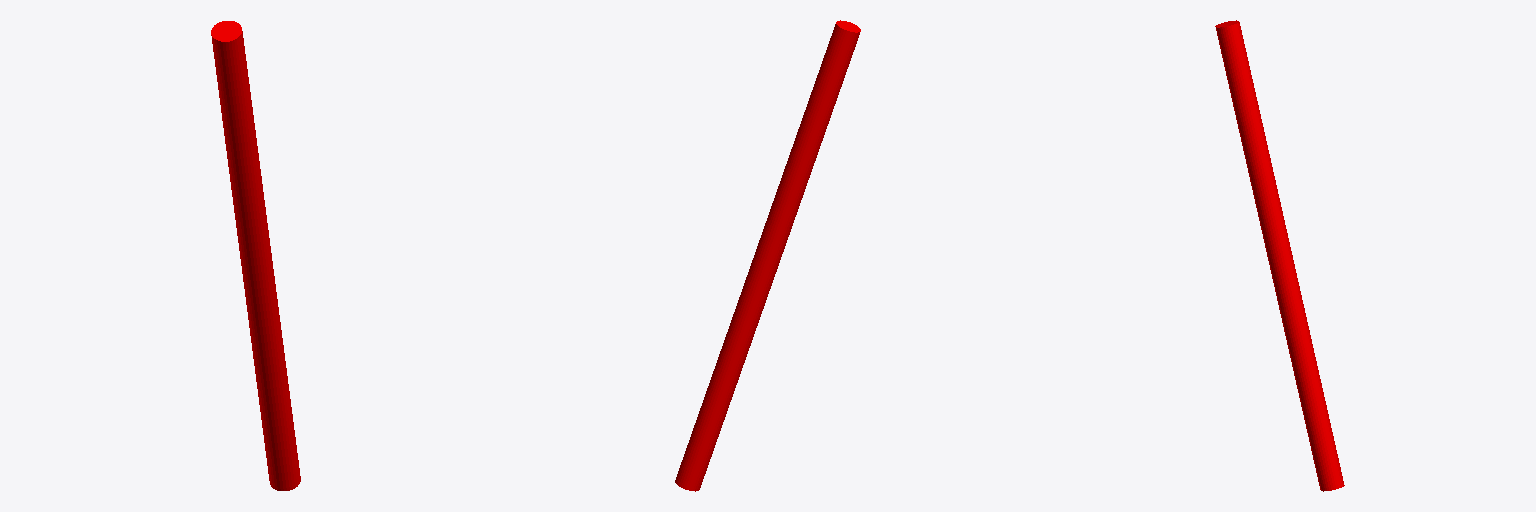
URDF robot description (tree_45.urdf):
<?xml version='1.0' encoding='utf-8'?>
<robot name="tree_45.urdf">
  <link name="branch_0">
    <inertial>
      <origin xyz="0.0 0.0 0.0" rpy="0.0 -0.0 0.0" />
      <mass value="1.0" />
      <inertia ixx="1.0" ixy="0.0" ixz="0.0" iyy="1.0" iyz="0.0" izz="1.0" />
    </inertial>
    <visual name="branch_0_visual">
      <geometry>
        <cylinder radius="0.07223814161356872" length="2.82992596928281" />
      </geometry>
      <material name="semantic_material" />
      <origin xyz="-0.3326382174470301 -0.30716704666172306 1.3405672193680143" rpy="4.078267262795221e-17 0.3257152074481237 -2.395984295880718" />
    </visual>
    <collision name="branch_0_collision">
      <geometry>
        <cylinder radius="0.07223814161356872" length="2.82992596928281" />
      </geometry>
      <origin xyz="-0.3326382174470301 -0.30716704666172306 1.3405672193680143" rpy="4.078267262795221e-17 0.3257152074481237 -2.395984295880718" />
    </collision>
  </link>
  <material name="semantic_material">
    <color rgba="1. 0. 0. 1." />
  </material>
</robot>

--- Render facts (derived) ---
Views: 3 orthographic renders of the robot side by side, from view 1: azimuth 30°, elevation 25°; view 2: azimuth 150°, elevation 25°; view 3: azimuth 270°, elevation 25°.
Robot: tree_45.urdf — 1 links, 0 joints (none); root link branch_0; default pose: every joint at zero.
Links seen in each view (by area): view 1: branch_0; view 2: branch_0; view 3: branch_0.
Boxes of the visible links, <box> form: branch_0: <box>211,21,300,490</box>; branch_0: <box>675,20,860,491</box>; branch_0: <box>1215,20,1344,491</box>.
Bounding box of the posed robot: 0.8057 × 0.7551 × 2.73 m (x, y, z).
Geometry: primitives only (box / cylinder / sphere), no mesh files.